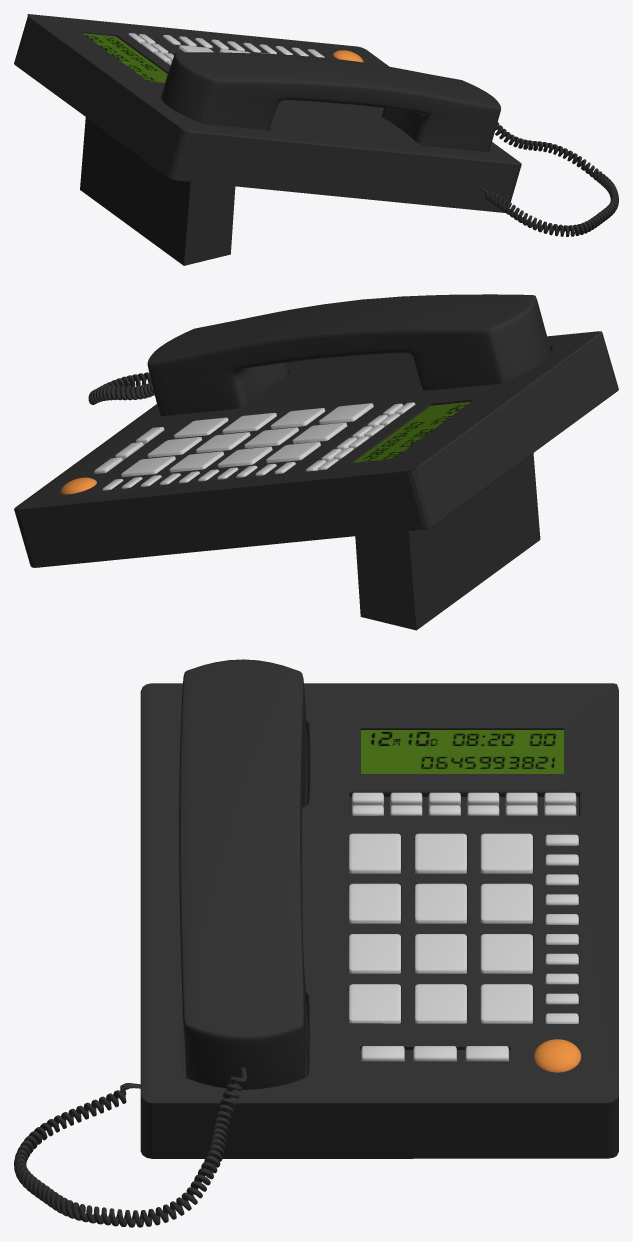
The model's file is telephone.fbx.
The picture shows the model from 3 angles, top to bottom: view 1: azimuth 30°, elevation 25°; view 2: azimuth 150°, elevation 25°; view 3: azimuth 270°, elevation 25°; orthographic projection. The views are drawn at different scales.
Visible parts, largest first — view 1: Cube.043, Plane.009, Sphere.011; view 2: Cube.043, Plane.009, Sphere.011; view 3: Cube.043, Plane.009, Sphere.011.
Part boxes in pixels (x1,y1,x2,y2): Cube.043: (14,14,521,265); Plane.009: (161,52,618,236); Sphere.011: (128,33,363,65); Cube.043: (14,331,618,630); Plane.009: (88,294,550,415); Sphere.011: (60,402,415,494); Cube.043: (140,683,618,1158); Plane.009: (14,659,306,1227); Sphere.011: (349,792,581,1072).
Size of the model in its own units: 315 by 134 by 253.
